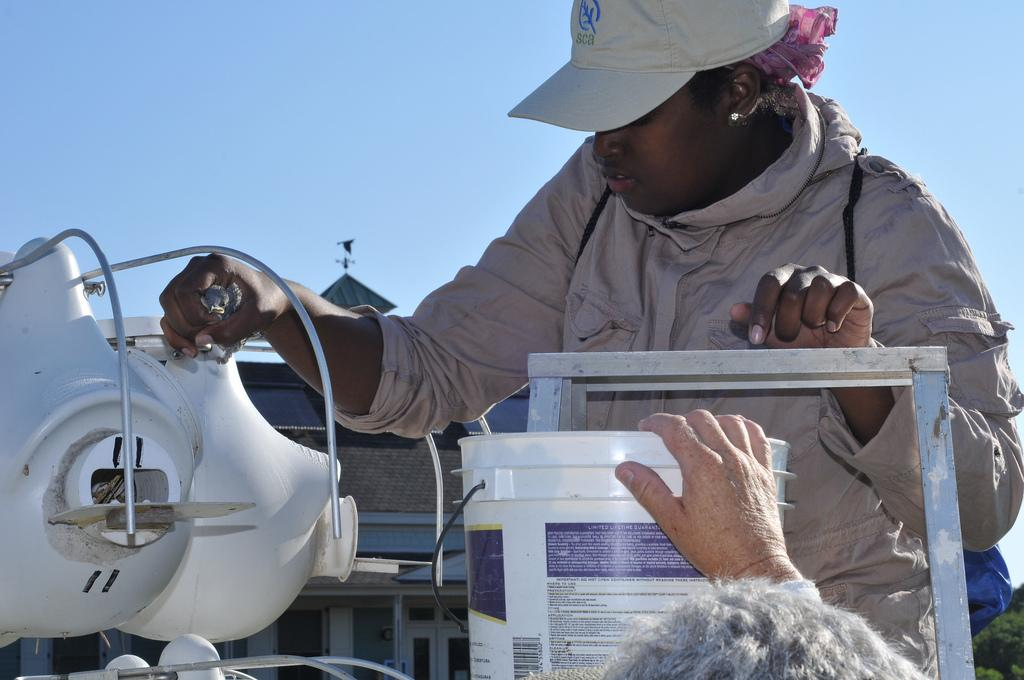Hat: (509, 0, 795, 137)
